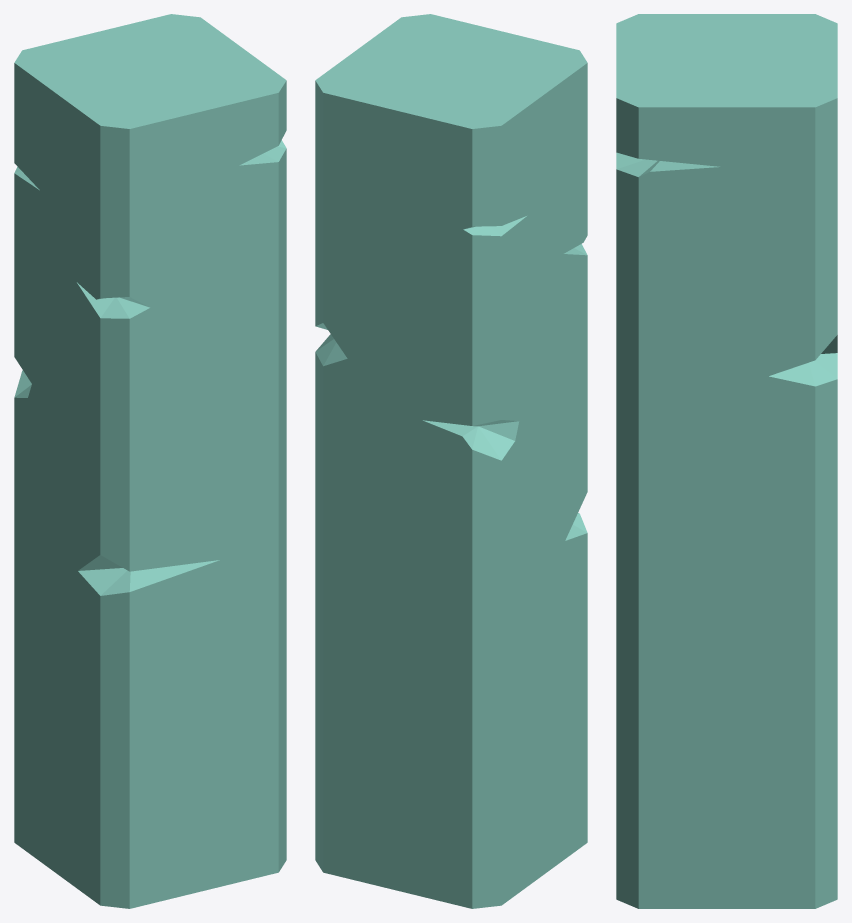
Rendered from TowerPillar.fbx.
3 views of the same model, side by side, from view 1: azimuth 30°, elevation 25°; view 2: azimuth 150°, elevation 25°; view 3: azimuth 270°, elevation 25° (orthographic). The views are drawn at different scales.
Visible parts, largest first — view 1: Tower; view 2: Tower; view 3: Tower.
Part boxes in pixels (box(x1,y1,x2,y2)): Tower: box(14, 14, 286, 908); Tower: box(315, 14, 587, 908); Tower: box(616, 14, 837, 908).
Bounding box in the file's own units: 2 × 8 × 2.
